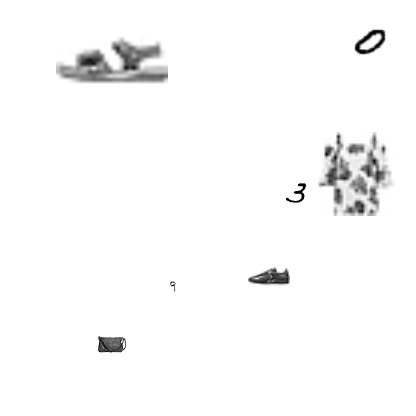0: (349, 21, 391, 63)
3: (284, 179, 312, 207)
9: (166, 278, 180, 292)
Bag: (98, 330, 126, 358)
Sandal: (56, 2, 168, 114)
Shirt: (313, 132, 397, 216)
Sneaker: (248, 255, 290, 297)
